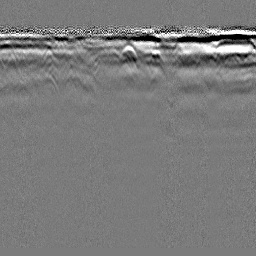cavity: (118, 41, 138, 62)
